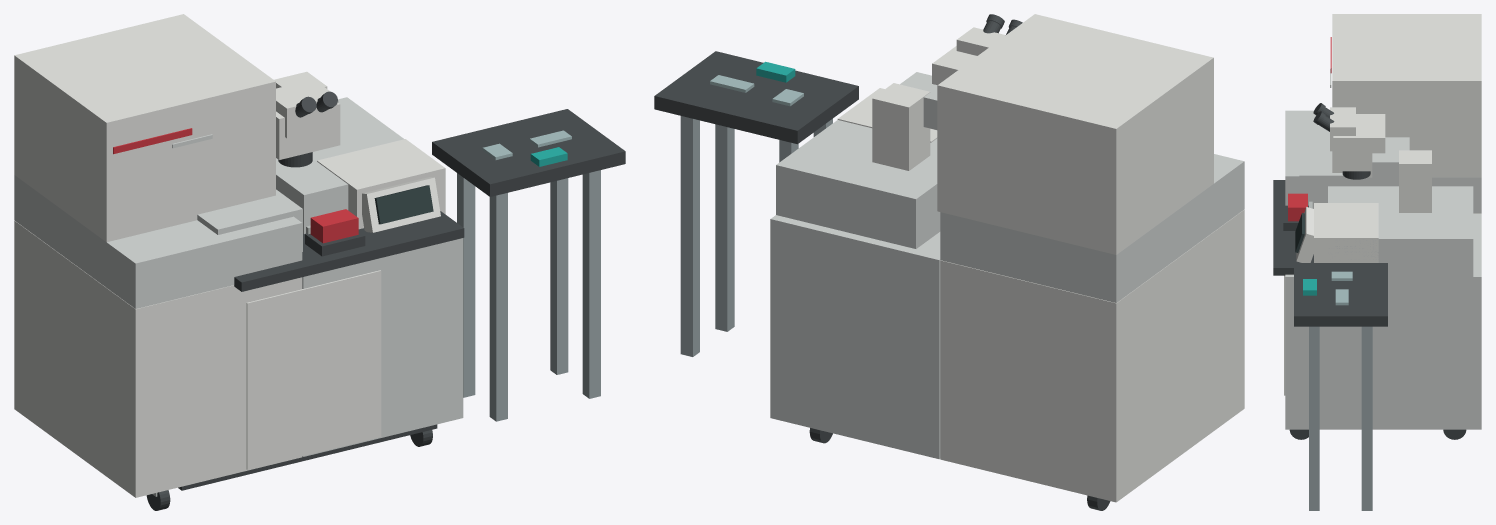
The model's file is leica-em-ice-static.glb.
The picture shows the model from 3 angles, left to right: view 1: azimuth 30°, elevation 25°; view 2: azimuth 150°, elevation 25°; view 3: azimuth 270°, elevation 25°; orthographic projection. The views are drawn at different scales.
Visible parts, largest first — view 1: upper_left_tall_shroud, low_body_left_shell, front_lower_shell_panel, low_body_right_shell, upper_left_base_trim, detached_exhibit_stand_top, upper_workstation_rear_shell, working_surface_closed, right_workstation_apron, exhibit_leg, exhibit_leg.002, exhibit_leg.003 (+9 smaller); view 2: low_body_left_shell, upper_left_tall_shroud, low_body_right_shell, upper_left_base_trim, upper_workstation_rear_shell, detached_exhibit_stand_top, exhibit_leg.003, m80_external_support, exhibit_leg.002, m80_external_arm, m80_outer_visor, m80_binocular_cowl (+1 smaller); view 3: low_body_right_shell, upper_left_tall_shroud, upper_workstation_rear_shell, detached_exhibit_stand_top, right_workstation_apron, upper_left_base_trim, m80_outer_visor, upper_mid_facade, exhibit_leg.003, m80_external_support, exhibit_leg.002, working_surface_closed (+5 smaller).
Boxes of the visible parts, bbox=[...] form: upper_left_tall_shroud: bbox=[14, 14, 275, 242]; low_body_left_shell: bbox=[14, 220, 302, 497]; front_lower_shell_panel: bbox=[246, 270, 381, 469]; low_body_right_shell: bbox=[302, 238, 463, 456]; upper_left_base_trim: bbox=[14, 175, 302, 308]; detached_exhibit_stand_top: bbox=[432, 109, 625, 196]; upper_workstation_rear_shell: bbox=[276, 97, 404, 233]; working_surface_closed: bbox=[234, 211, 464, 291]; right_workstation_apron: bbox=[317, 139, 445, 229]; exhibit_leg: bbox=[489, 193, 507, 421]; exhibit_leg.002: bbox=[582, 170, 600, 398]; exhibit_leg.003: bbox=[550, 178, 568, 374]; low_body_left_shell: bbox=[940, 209, 1244, 502]; upper_left_tall_shroud: bbox=[937, 14, 1213, 254]; low_body_right_shell: bbox=[770, 215, 940, 459]; upper_left_base_trim: bbox=[940, 154, 1244, 302]; upper_workstation_rear_shell: bbox=[776, 120, 940, 248]; detached_exhibit_stand_top: bbox=[654, 51, 858, 144]; exhibit_leg.003: bbox=[680, 116, 699, 356]; m80_external_support: bbox=[872, 83, 930, 170]; exhibit_leg.002: bbox=[715, 124, 734, 331]; m80_external_arm: bbox=[900, 72, 937, 129]; m80_outer_visor: bbox=[932, 46, 976, 84]; m80_binocular_cowl: bbox=[956, 27, 1005, 55]; low_body_right_shell: bbox=[1285, 214, 1481, 429]; upper_left_tall_shroud: bbox=[1332, 14, 1481, 177]; upper_workstation_rear_shell: bbox=[1328, 186, 1473, 276]; detached_exhibit_stand_top: bbox=[1294, 263, 1387, 326]; right_workstation_apron: bbox=[1314, 203, 1378, 262]; upper_left_base_trim: bbox=[1285, 110, 1481, 213]; m80_outer_visor: bbox=[1333, 114, 1385, 171]; upper_mid_facade: bbox=[1299, 142, 1365, 208]; exhibit_leg.003: bbox=[1361, 326, 1372, 510]; m80_external_support: bbox=[1399, 150, 1431, 212]; exhibit_leg.002: bbox=[1309, 326, 1319, 510]; working_surface_closed: bbox=[1273, 180, 1313, 275].
Size of the model in its own units: 1.75 by 1.28 by 0.79.
